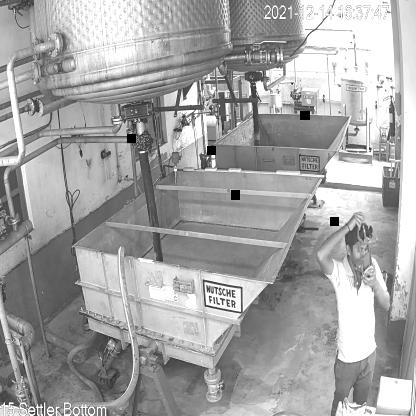no_glove: (309, 203, 364, 261)
